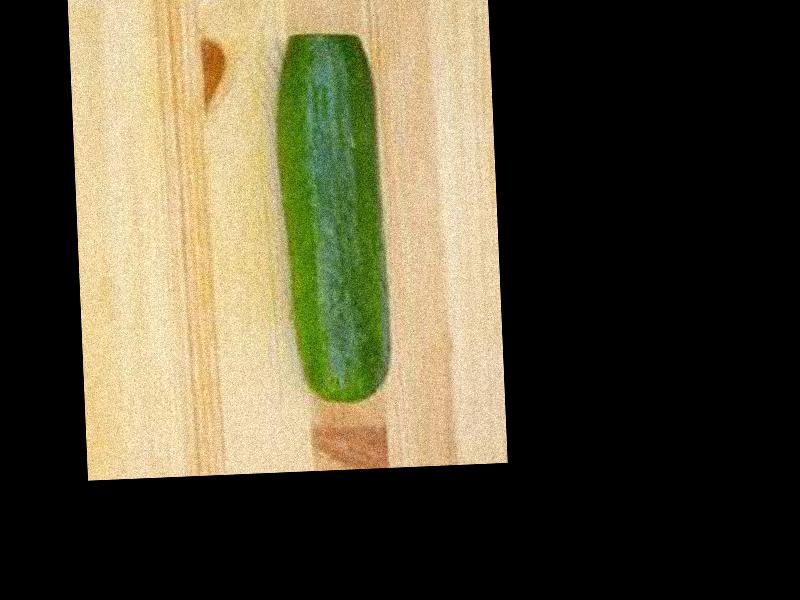Cucumber: (276, 33, 392, 405)
